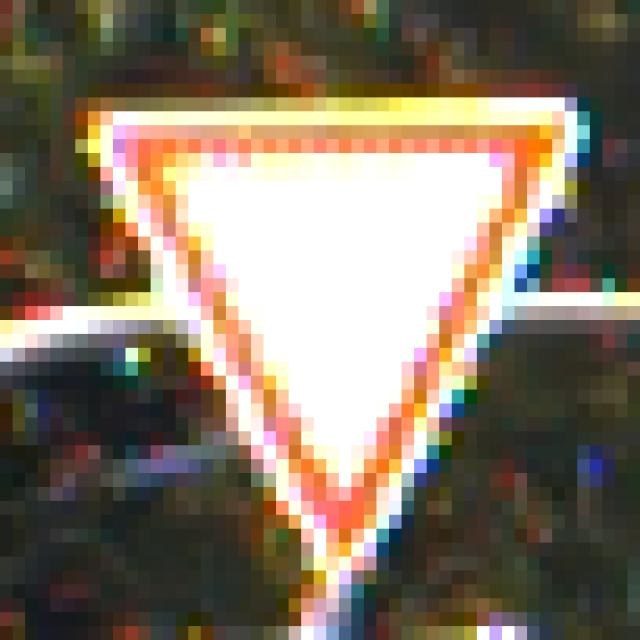Give Way: (77, 71, 579, 572)
